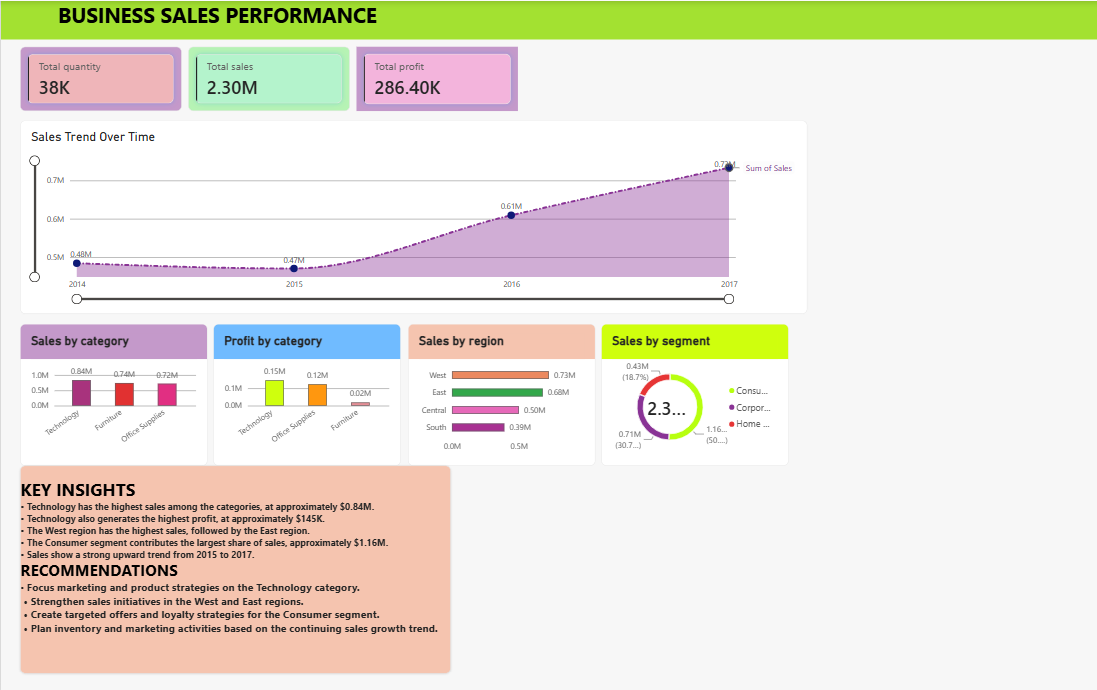

What the dashboard file says about the page in this screenshot:
{"tool":"powerbi","page":{"name":"Page 1","canvas":[1920,1080],"ordinal":0},"visuals":[{"type":"clusteredColumnChart","title":"Sales by category","fields":{"Category":["Sample - Superstore.Category"],"Y":["Sum(Sample - Superstore.Sales)"]},"box":[30,500,290,220],"z":0},{"type":"cardVisual","fields":{"Data":["Sum(Sample - Superstore.Profit)"]},"box":[550,70,250,100],"z":1000},{"type":"cardVisual","fields":{"Data":["Sum(Sample - Superstore.Quantity)"]},"box":[30,70,250,100],"z":2000},{"type":"clusteredBarChart","title":"Sales by region","fields":{"Category":["Sample - Superstore.Region"],"Y":["Sum(Sample - Superstore.Sales)"]},"box":[630,500,290,220],"z":3000},{"type":"donutChart","title":"Sales by segment","fields":{"Category":["Sample - Superstore.Segment"],"Y":["Sum(Sample - Superstore.Sales)"]},"box":[930,500,290,220],"z":4000},{"type":"lineChart","title":"Sales Trend Over Time","fields":{"Category":["Sample - Superstore.Order Date.Variation.Date Hierarchy.Year","Sample - Superstore.Order Date.Variation.Date Hierarchy.Quarter","Sample - Superstore.Order Date.Variation.Date Hierarchy.Month","Sample - Superstore.Order Date.Variation.Date Hierarchy.Day"],"Y":["Sum(Sample - Superstore.Sales)"]},"box":[30,185,1220,300],"z":5000},{"type":"textbox","box":[1660,0,255,277],"z":6000},{"type":"clusteredColumnChart","title":"Profit by category","fields":{"Category":["Sample - Superstore.Category"],"Y":["Sum(Sample - Superstore.Profit)"]},"box":[330,500,290,220],"z":7000},{"type":"cardVisual","fields":{"Data":["Sum(Sample - Superstore.Sales)"]},"box":[290,70,250,100],"z":8000},{"type":"textbox","box":[0,0,1919.7,59.4],"z":9000},{"type":"textbox","box":[29.7,719.9,667.3,322.2],"z":10000}]}

Visuals, with their boxes in screenshot pixels (x1, y1, x2, y2):
"Sales by category" clusteredColumnChart: bbox(32, 298, 201, 426)
cardVisual - Sum(Sample - Superstore.Profit): bbox(336, 47, 482, 105)
cardVisual - Sum(Sample - Superstore.Quantity): bbox(32, 47, 178, 105)
"Sales by region" clusteredBarChart: bbox(382, 298, 552, 426)
"Sales by segment" donutChart: bbox(558, 298, 727, 426)
"Sales Trend Over Time" lineChart: bbox(32, 114, 744, 289)
textbox: bbox(984, 6, 1096, 168)
"Profit by category" clusteredColumnChart: bbox(207, 298, 376, 426)
cardVisual - Sum(Sample - Superstore.Sales): bbox(184, 47, 330, 105)
textbox: bbox(14, 6, 1096, 40)
textbox: bbox(32, 426, 421, 614)
